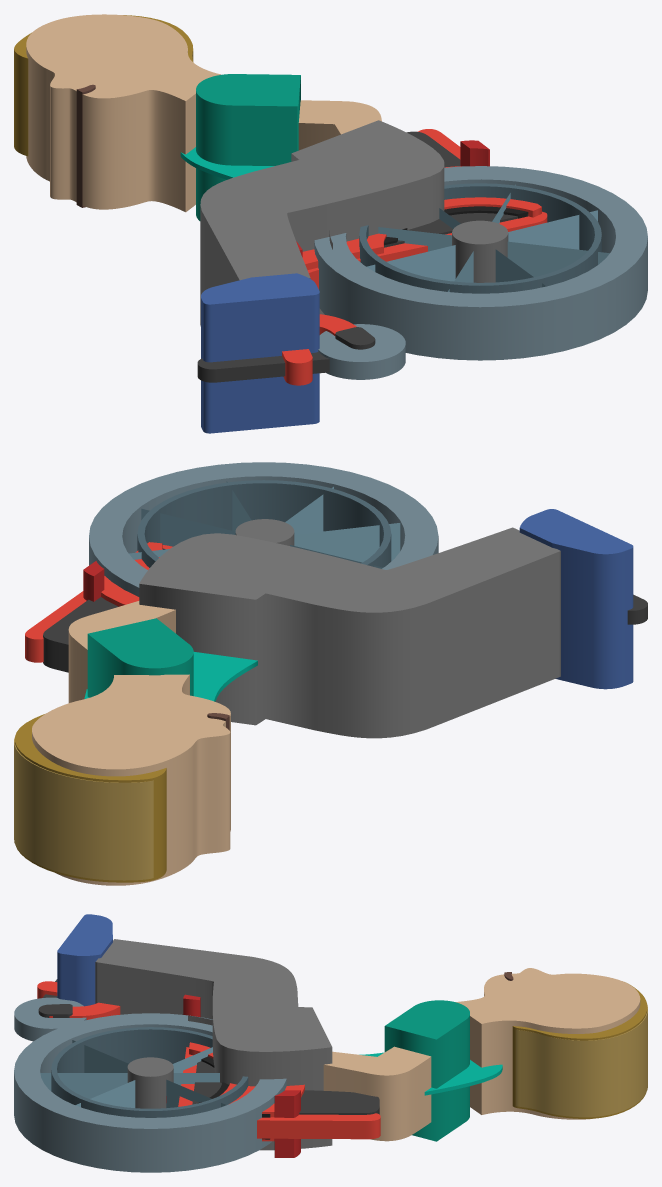
File: emoji_u1f468_1f3fc_200d_1f9bd.glb
3 views of the same model, one above another, from view 1: azimuth 30°, elevation 25°; view 2: azimuth 150°, elevation 25°; view 3: azimuth 270°, elevation 25° (orthographic). The views are drawn at different scales.
Parts seen in each view (by area): view 1: emoji_u1f468_1f3fc_200d_1f9bd; view 2: emoji_u1f468_1f3fc_200d_1f9bd; view 3: emoji_u1f468_1f3fc_200d_1f9bd.
Part boxes in pixels (x1,y1,x2,y2): emoji_u1f468_1f3fc_200d_1f9bd: (14,14,647,433); emoji_u1f468_1f3fc_200d_1f9bd: (14,462,647,885); emoji_u1f468_1f3fc_200d_1f9bd: (14,914,647,1172).
Size of the model in its own units: 0.022 by 0.0058 by 0.0315.
